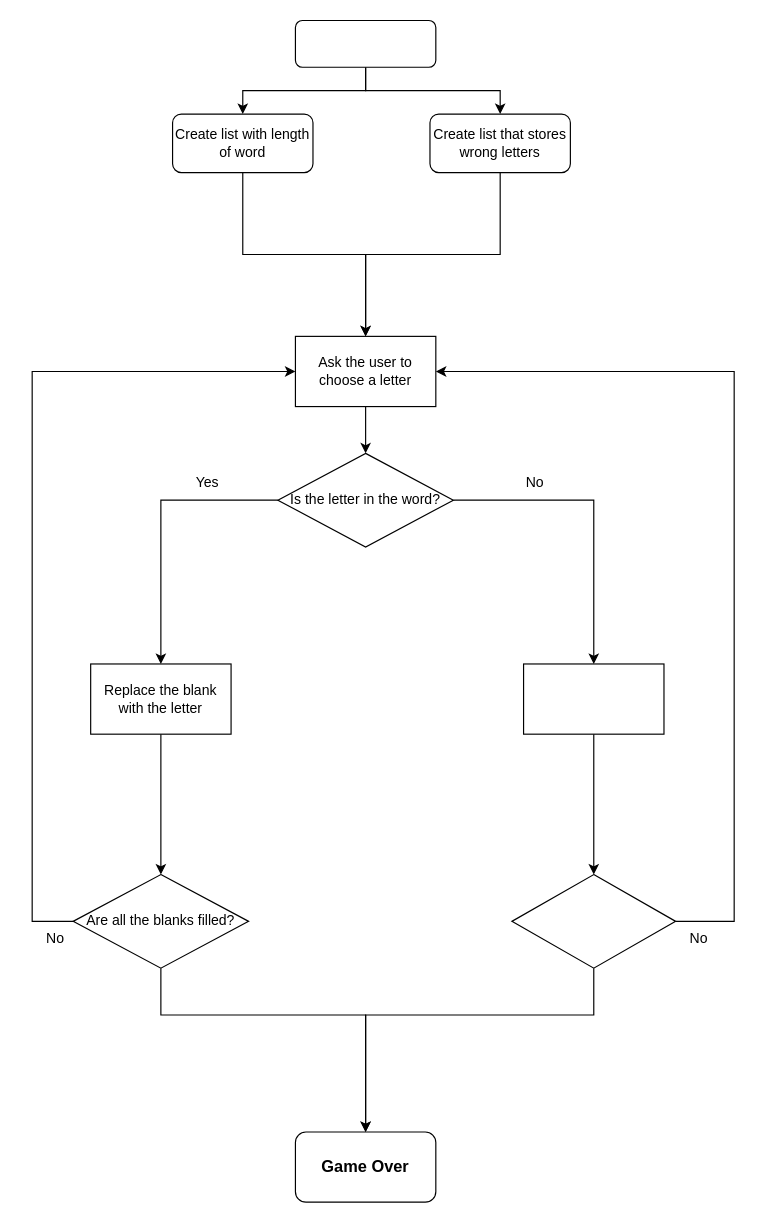
Some shapes in this 764 by 1223 pixel diagram are drawn without their labels. Here are the shapes that lost their labels. From the top down, the box of each, then its label:
(294, 19, 436, 67): Define random word
(522, 663, 664, 734): Lose a Life
(511, 873, 676, 968): Have you run out of life?
